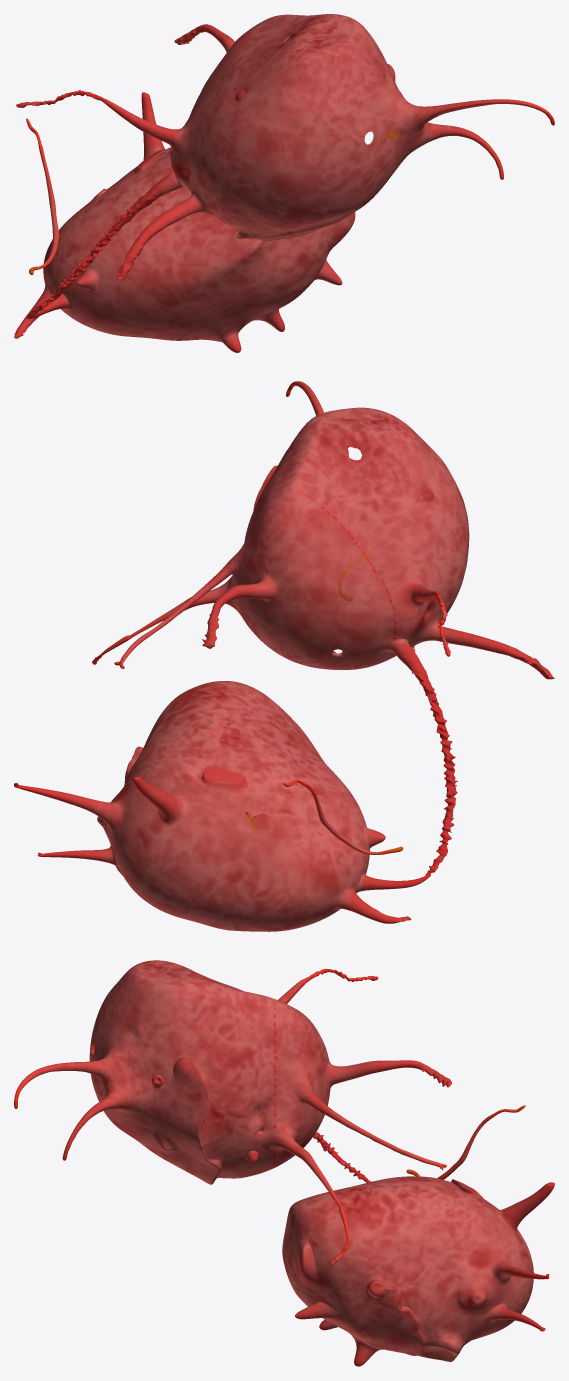
Rendered from platelates.glb.
3 views of the same model, one above another, from view 1: azimuth 30°, elevation 25°; view 2: azimuth 150°, elevation 25°; view 3: azimuth 270°, elevation 25° (orthographic). The views are drawn at different scales.
Visible parts, largest first — view 1: tripo_node_0777dd9c-4335-4d03-acc8-df05b2fec491; view 2: tripo_node_0777dd9c-4335-4d03-acc8-df05b2fec491; view 3: tripo_node_0777dd9c-4335-4d03-acc8-df05b2fec491.
Boxes of the visible parts, x1=… form: tripo_node_0777dd9c-4335-4d03-acc8-df05b2fec491: x1=14, y1=14, x2=554, y2=352; tripo_node_0777dd9c-4335-4d03-acc8-df05b2fec491: x1=14, y1=381, x2=554, y2=931; tripo_node_0777dd9c-4335-4d03-acc8-df05b2fec491: x1=14, y1=960, x2=554, y2=1366.
Size of the model in its own units: 0.7742 by 0.7564 by 1.
1 material, 1 textured.
